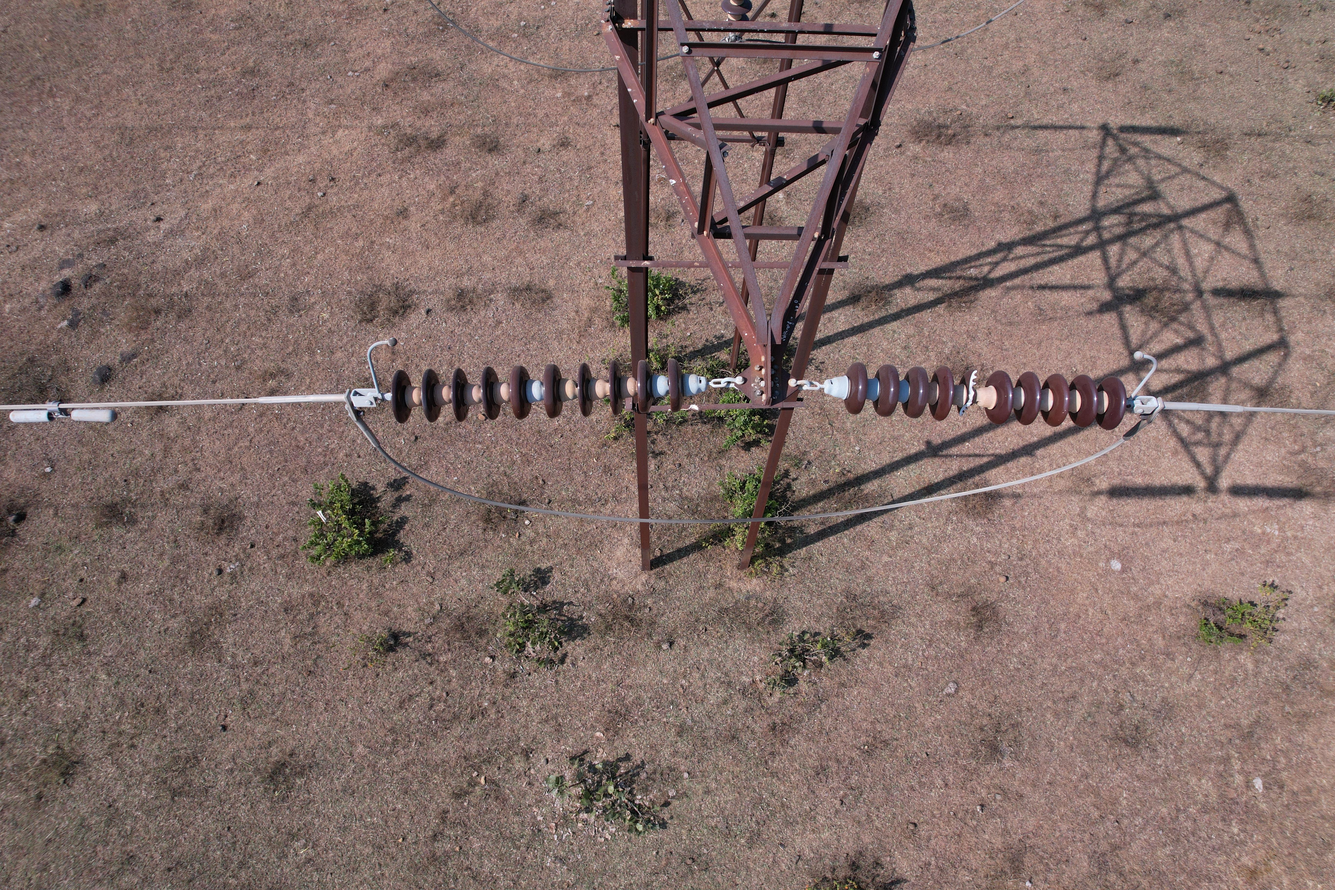broken_insulator: (954, 364, 984, 421), (721, 14, 750, 23)
